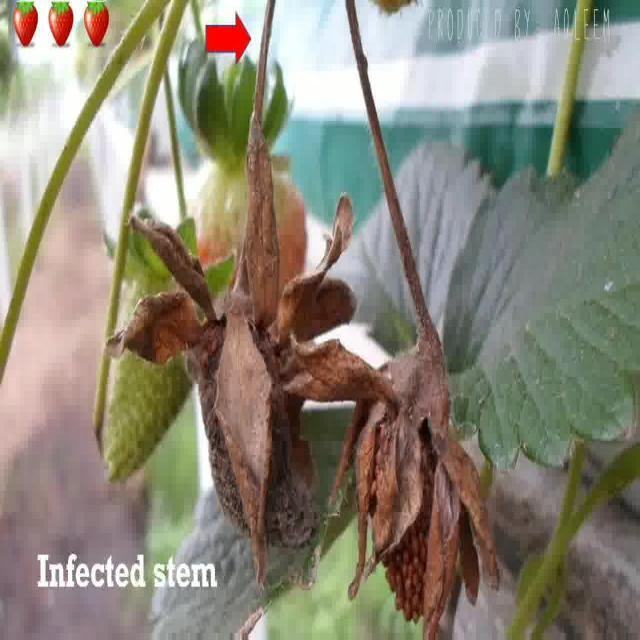Mancha negra Antracnosis: (359, 382, 471, 624), (195, 318, 302, 537)
